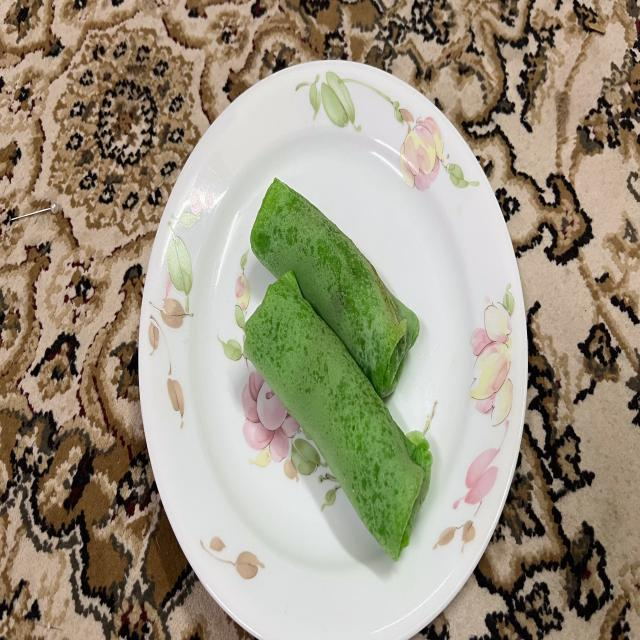Kuih-Ketayap: (245, 271, 432, 560), (250, 178, 420, 398)
